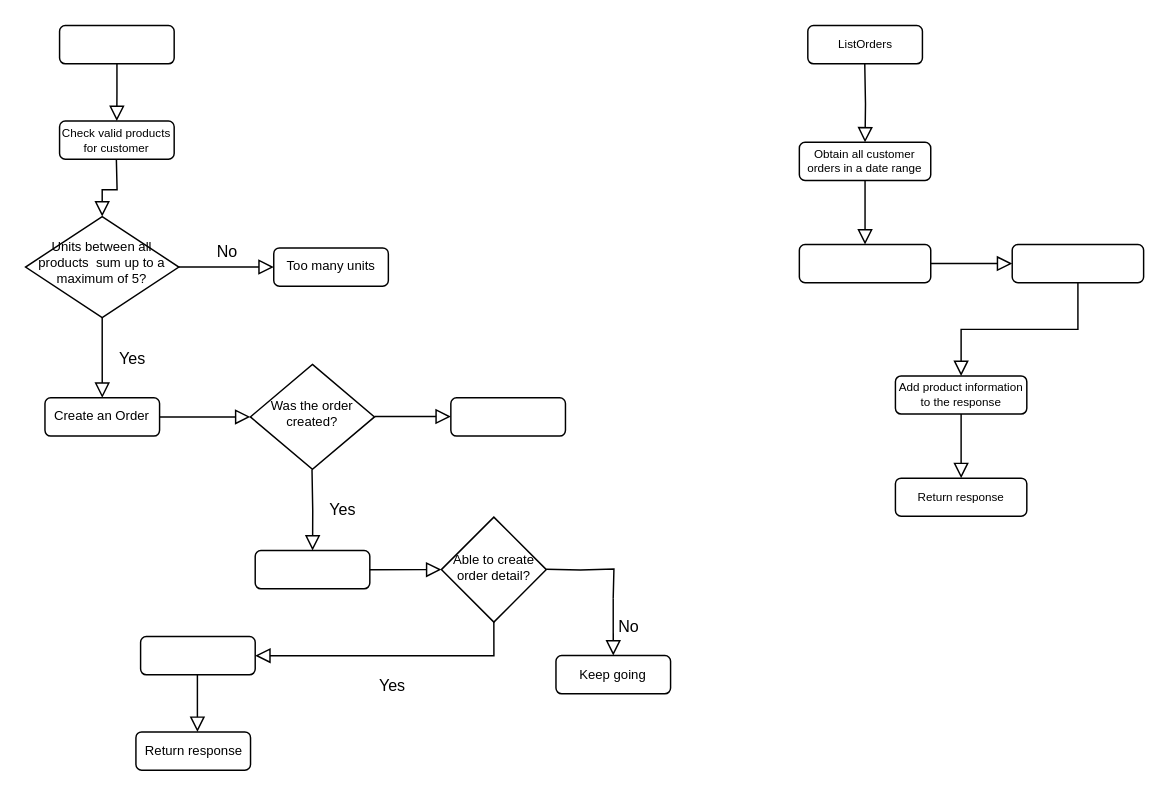
The diagram is 1169 pixels wide and 796 high, and some of its shapes have lost their labels. The shapes that lost their labels are listed below. From the top down, each one's centre as x and y in pixels, then its label:
At pixel 116 44: "CreateOrder".
At pixel 864 263: "Get order detail for every order".
At pixel 1077 263: "Get product for order detail".
At pixel 507 416: "Return Nothing".
At pixel 312 569: "Create order detail for each product".
At pixel 197 655: "Add newly created order to response".
